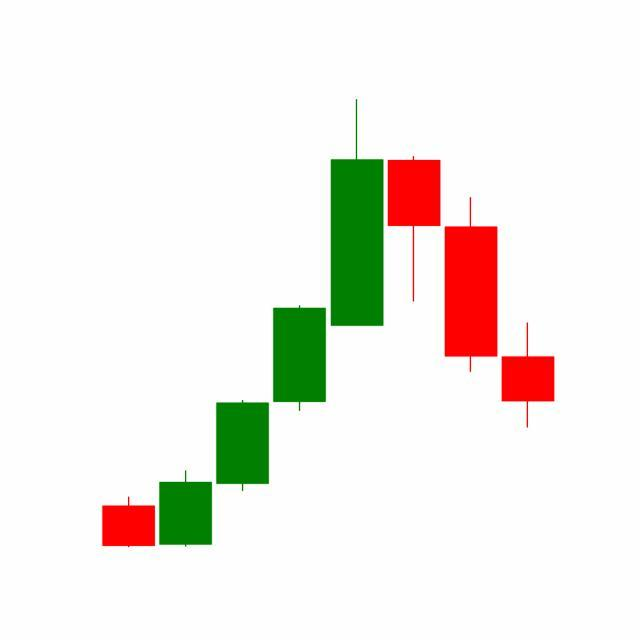Hikkake Pattern: (214, 99, 501, 496)
